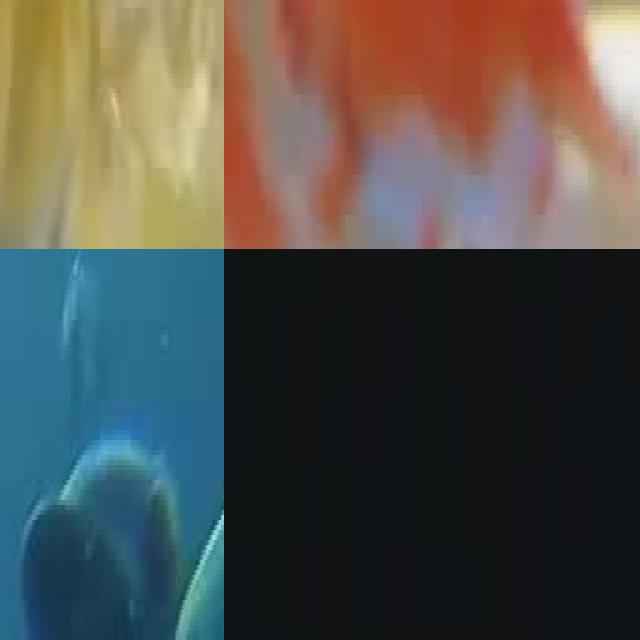fish: (0, 0, 224, 249), (224, 0, 370, 225)
